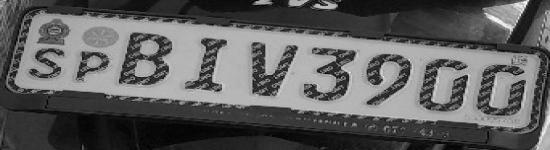0: (417, 55, 474, 116), (473, 61, 530, 119)
3: (302, 46, 361, 103)
9: (360, 46, 416, 109)
B: (117, 30, 178, 91)
I: (180, 32, 234, 98)
P: (72, 48, 113, 86)
S: (26, 45, 69, 82)
V: (247, 38, 299, 100)
